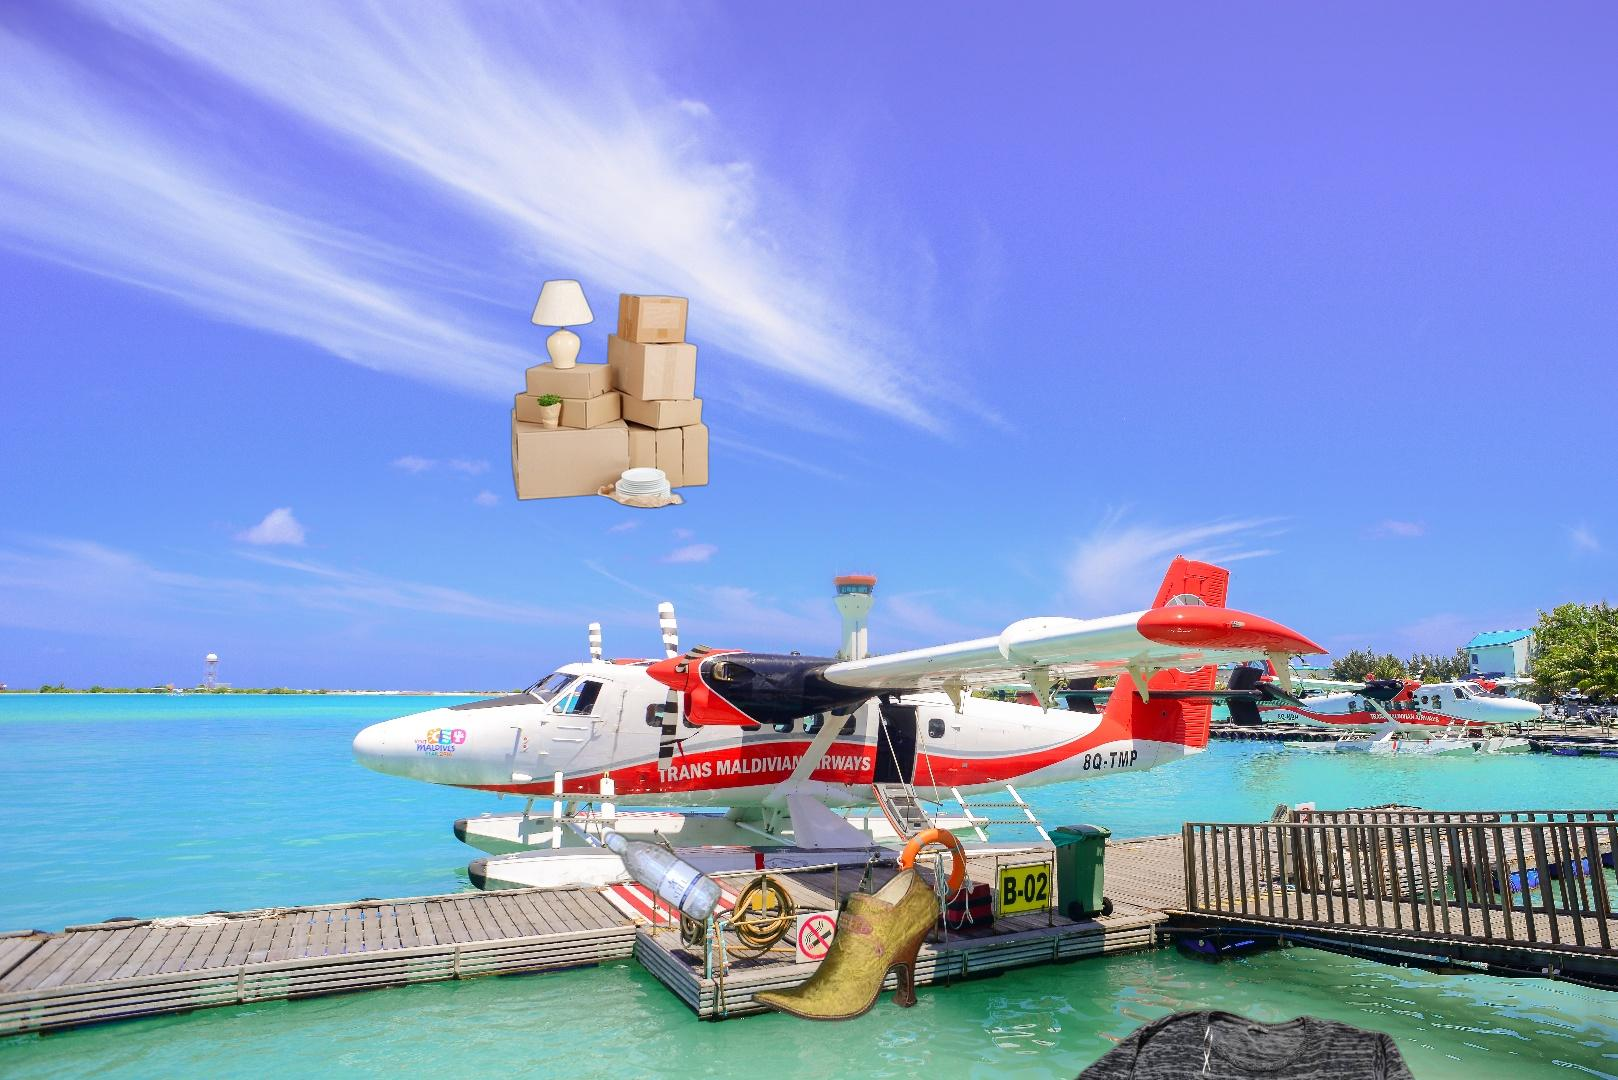clothes: (1047, 1006, 1432, 1080)
penholder: (1573, 914, 1618, 1080)
plastic-bottles: (600, 826, 725, 927)
shoes: (749, 865, 943, 1025)
trashbox-cardboard: (508, 278, 713, 511)
